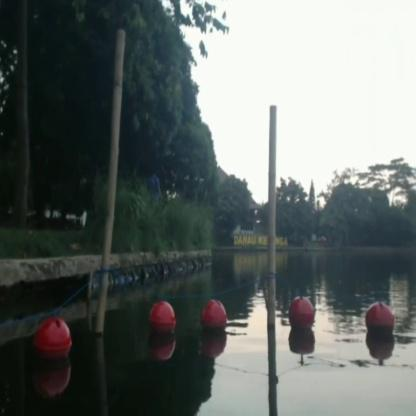red_buoy: (34, 314, 72, 370), (364, 301, 396, 348), (146, 300, 176, 348), (198, 299, 228, 342), (288, 296, 315, 334)
